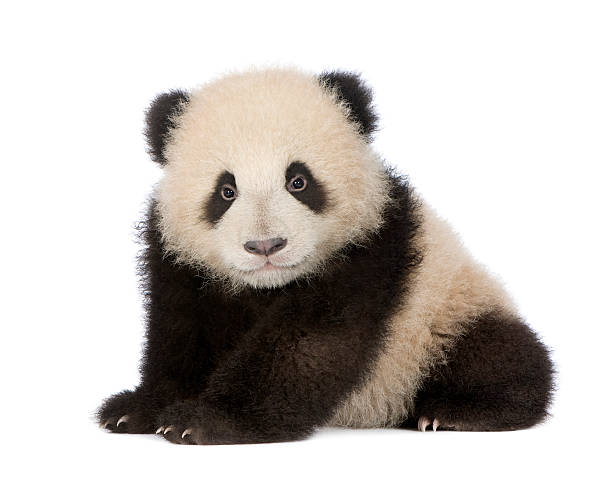panda: (113, 46, 432, 316)
